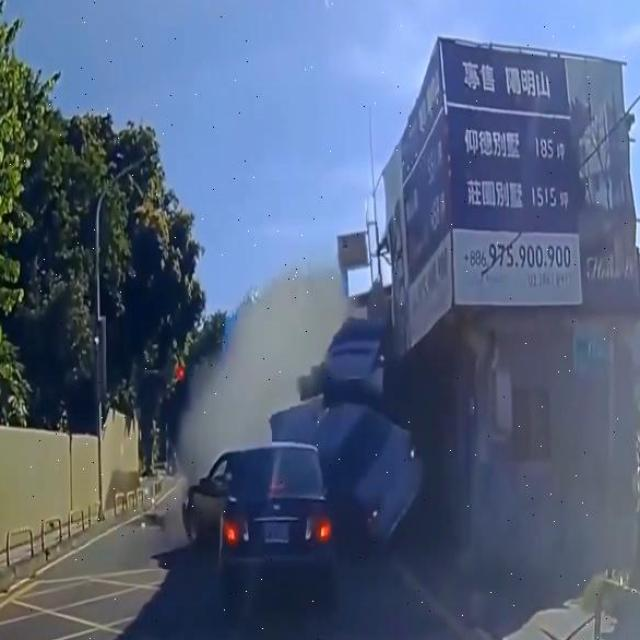accident: (277, 286, 439, 526)
